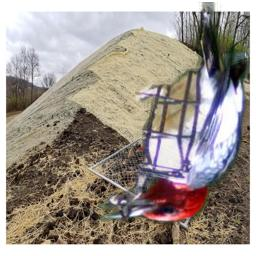Woodpecker: (96, 2, 248, 224)
